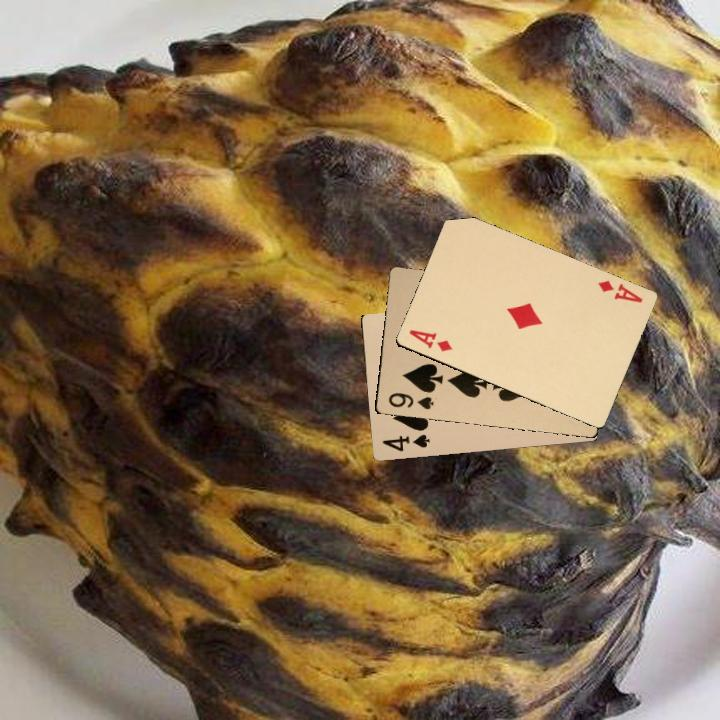4s: (379, 430, 432, 454)
9s: (384, 388, 436, 412)
Ad: (594, 276, 645, 305), (405, 325, 455, 354)
